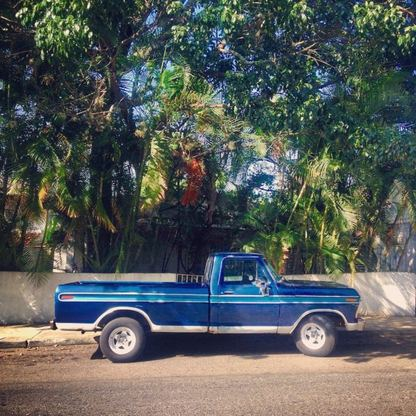truck: (57, 248, 363, 366)
